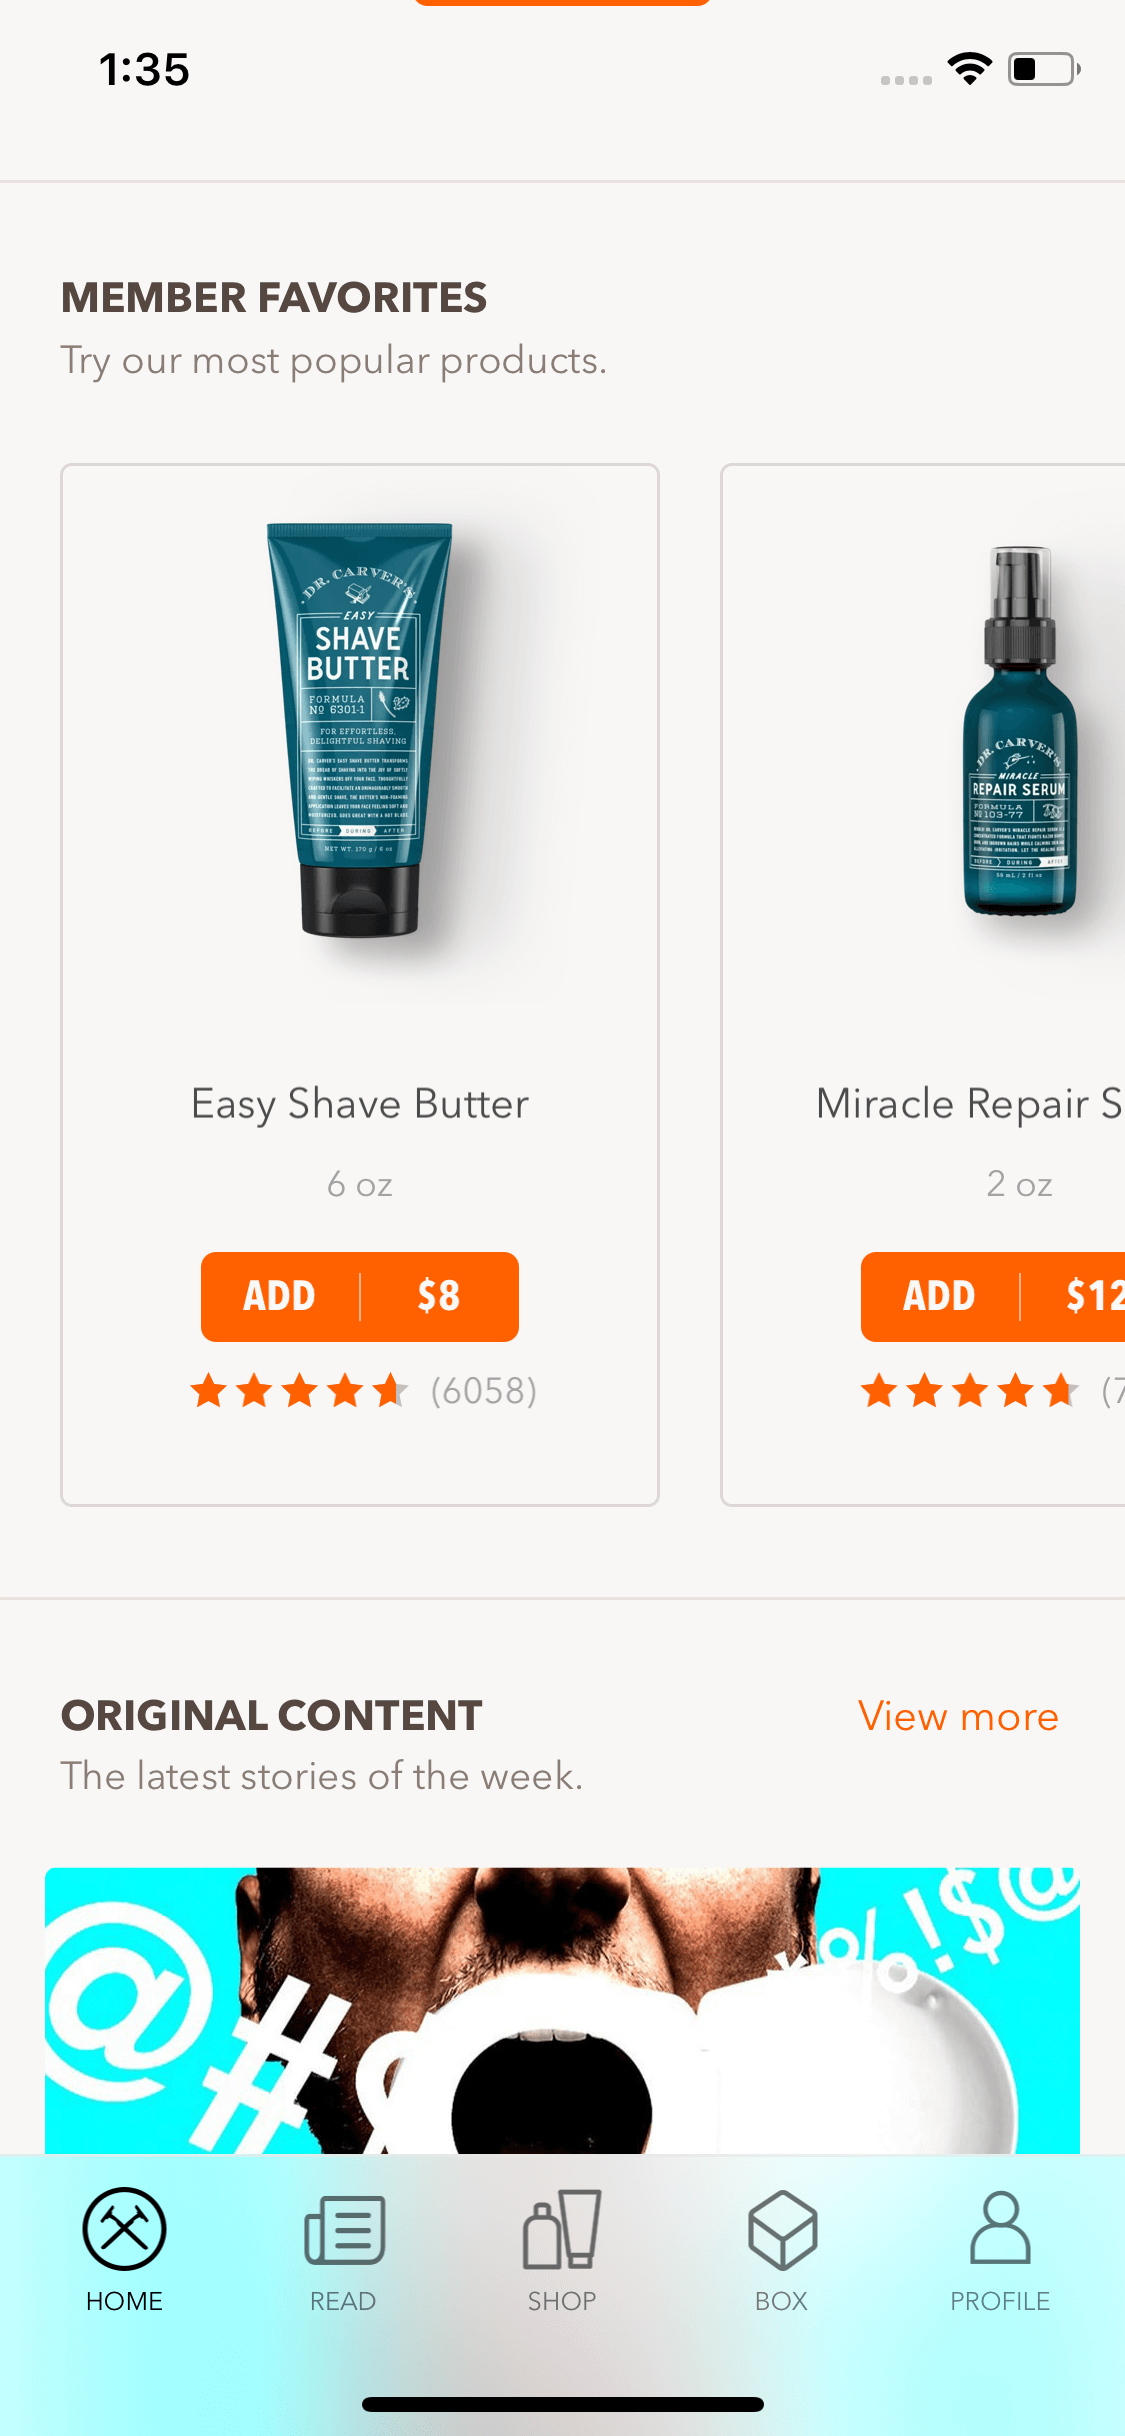Buttons: (193, 1237, 527, 1356), (850, 1235, 1125, 1361), (831, 1653, 1091, 1783)
Rating: (182, 1362, 558, 1428), (842, 1352, 1125, 1426)
